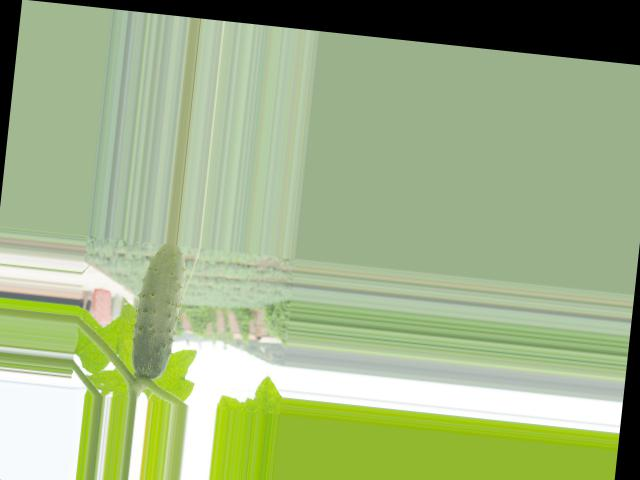cucumber: (129, 240, 187, 381)
